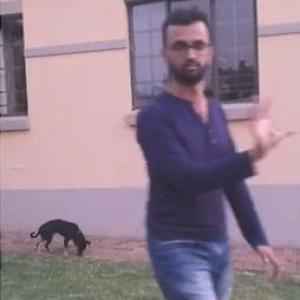follow_hand: (242, 90, 299, 157)
